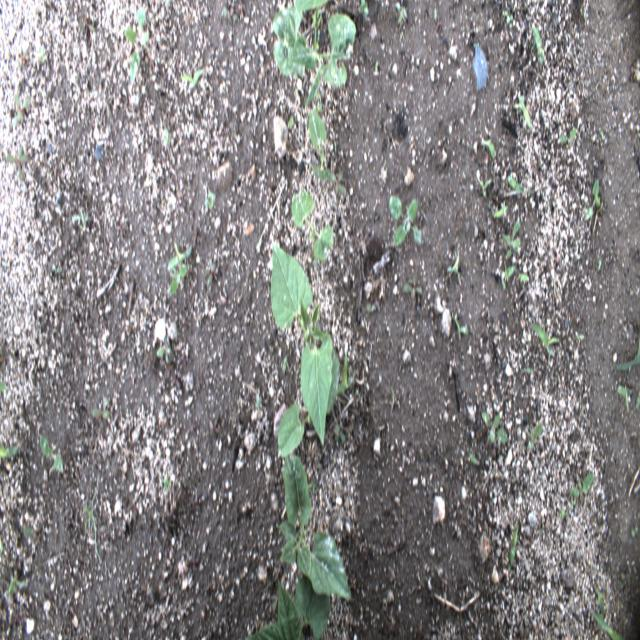crop: (270, 242, 332, 448), (278, 455, 354, 601), (271, 5, 357, 106), (276, 348, 339, 456), (245, 571, 330, 639), (291, 189, 335, 270), (309, 110, 330, 183), (295, 0, 327, 15)
weed: (124, 3, 151, 85), (388, 195, 422, 248), (84, 473, 101, 561), (592, 610, 626, 639), (481, 410, 509, 445), (6, 142, 29, 184), (40, 434, 64, 474), (611, 336, 639, 370), (532, 322, 559, 355), (334, 351, 354, 393), (168, 240, 194, 270), (568, 471, 596, 498), (502, 218, 520, 260), (12, 92, 32, 127), (584, 180, 601, 221), (169, 263, 189, 295), (532, 26, 547, 65), (446, 244, 461, 283), (403, 271, 423, 300), (8, 569, 28, 597), (182, 66, 205, 89), (508, 522, 518, 573), (516, 97, 531, 131), (508, 174, 533, 194), (328, 171, 347, 196), (78, 12, 96, 38), (222, 4, 240, 30), (617, 385, 633, 414), (92, 396, 112, 418), (526, 422, 541, 451), (592, 584, 606, 614), (502, 262, 516, 292), (453, 315, 469, 341), (476, 176, 494, 198), (156, 337, 171, 363), (489, 200, 509, 219), (558, 126, 576, 145), (23, 524, 44, 539), (394, 1, 407, 25), (481, 138, 495, 160), (204, 262, 215, 289), (203, 190, 217, 210), (0, 443, 19, 457), (335, 423, 346, 442), (502, 8, 514, 25), (358, 0, 369, 15), (469, 451, 479, 465), (161, 128, 169, 143), (163, 477, 171, 492), (280, 354, 287, 371), (255, 391, 261, 410), (287, 114, 294, 130), (517, 272, 529, 281), (635, 390, 640, 411), (631, 526, 639, 538), (0, 379, 7, 391), (558, 509, 566, 519), (434, 8, 437, 22)
